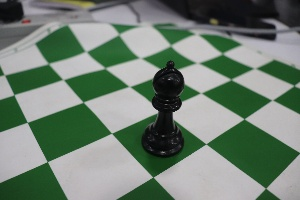black_bishop: (142, 52, 187, 162)
